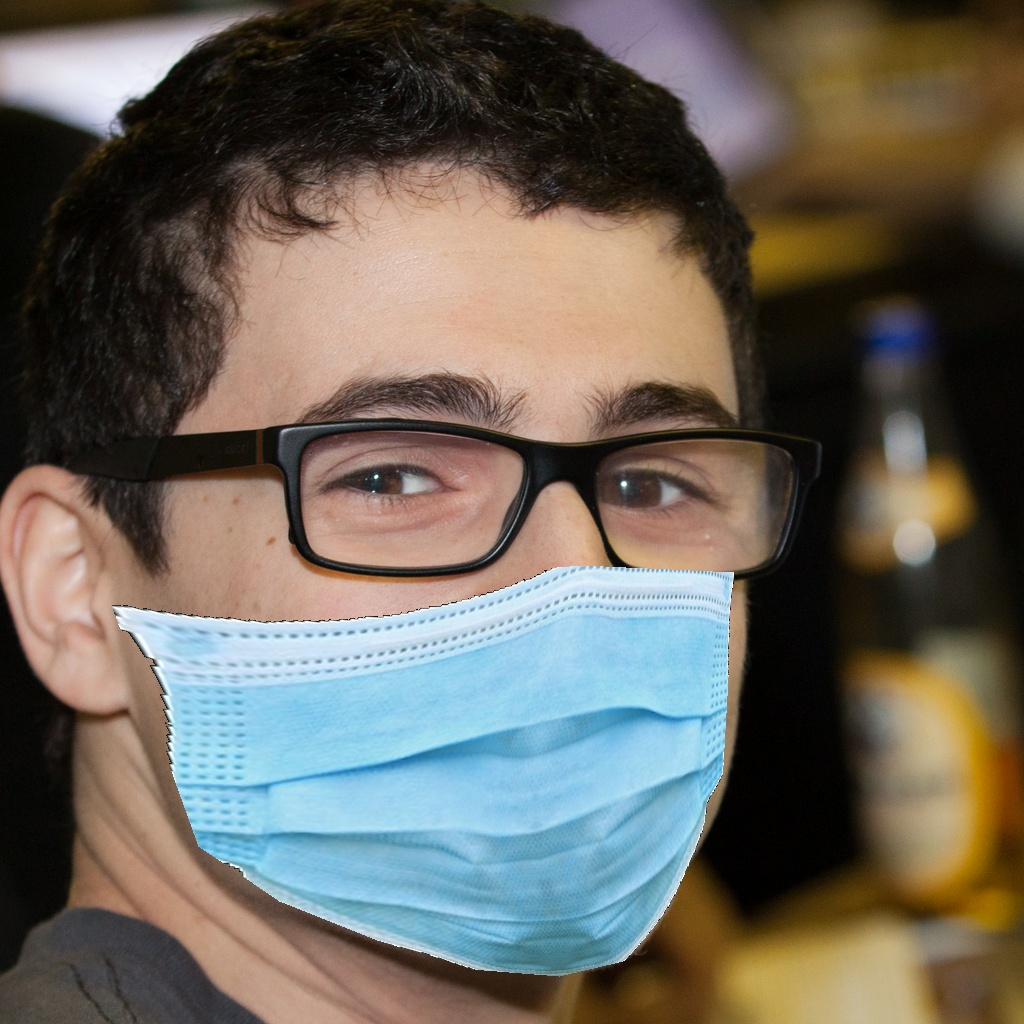with_mask: (196, 365, 763, 979)
